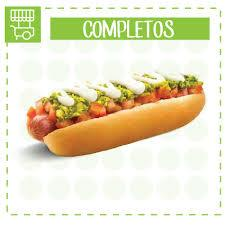Completos: (29, 61, 203, 167)
